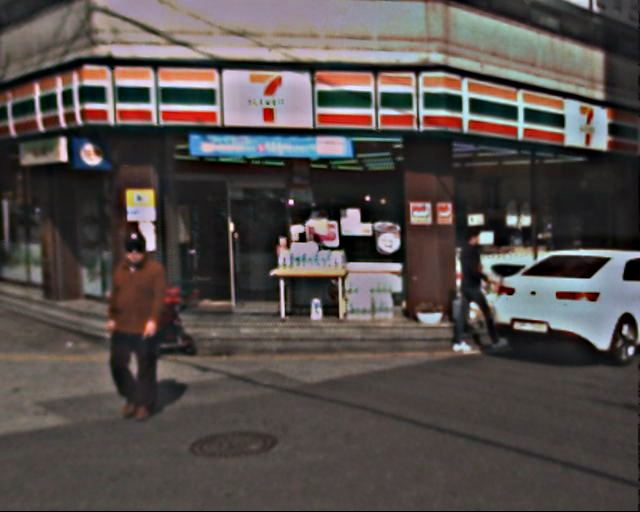person: (99, 228, 194, 414), (448, 227, 512, 356)
